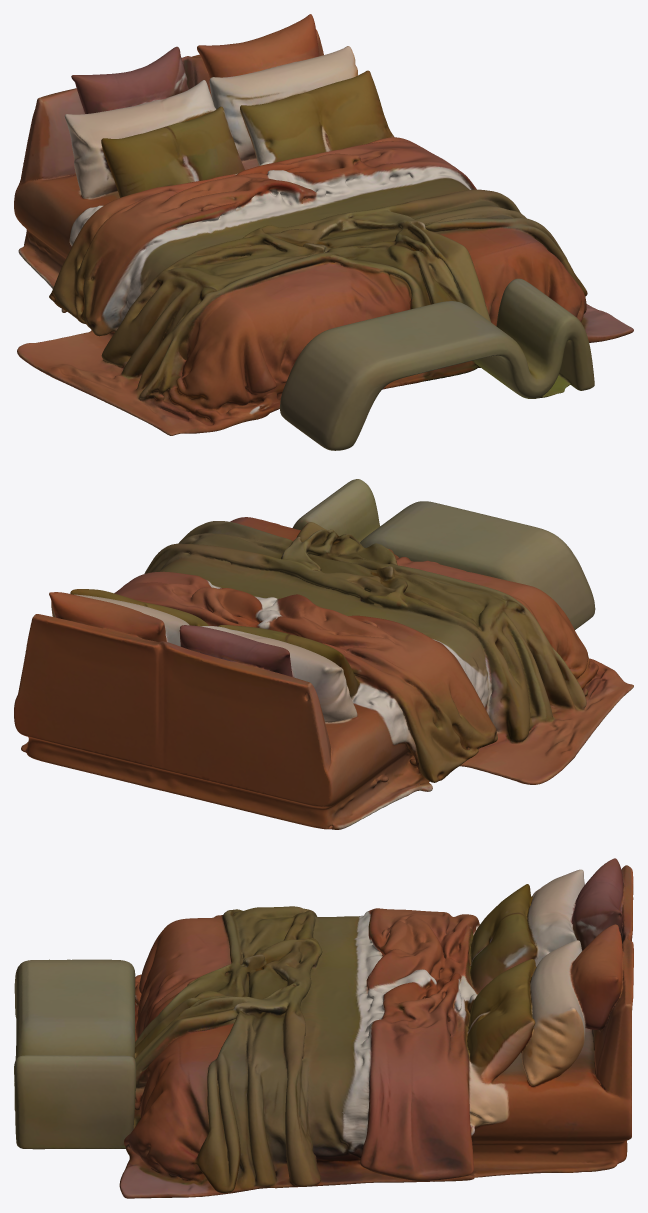
File: tripo_convert_bbe16742-33a9-4e3d-9d0d-a10372687d89.fbx
The picture shows the model from 3 angles, top to bottom: view 1: azimuth 30°, elevation 25°; view 2: azimuth 150°, elevation 25°; view 3: azimuth 270°, elevation 25°; orthographic projection. The views are drawn at different scales.
Parts seen in each view (by area): view 1: tripo_node_bbe16742; view 2: tripo_node_bbe16742; view 3: tripo_node_bbe16742.
Boxes of the visible parts, bbox=[...] form: tripo_node_bbe16742: bbox=[14, 14, 633, 450]; tripo_node_bbe16742: bbox=[14, 479, 633, 829]; tripo_node_bbe16742: bbox=[14, 858, 633, 1198].
Size of the model in its own units: 0.947 by 0.3216 by 1.
Materials: 1 (1 with a texture image).
